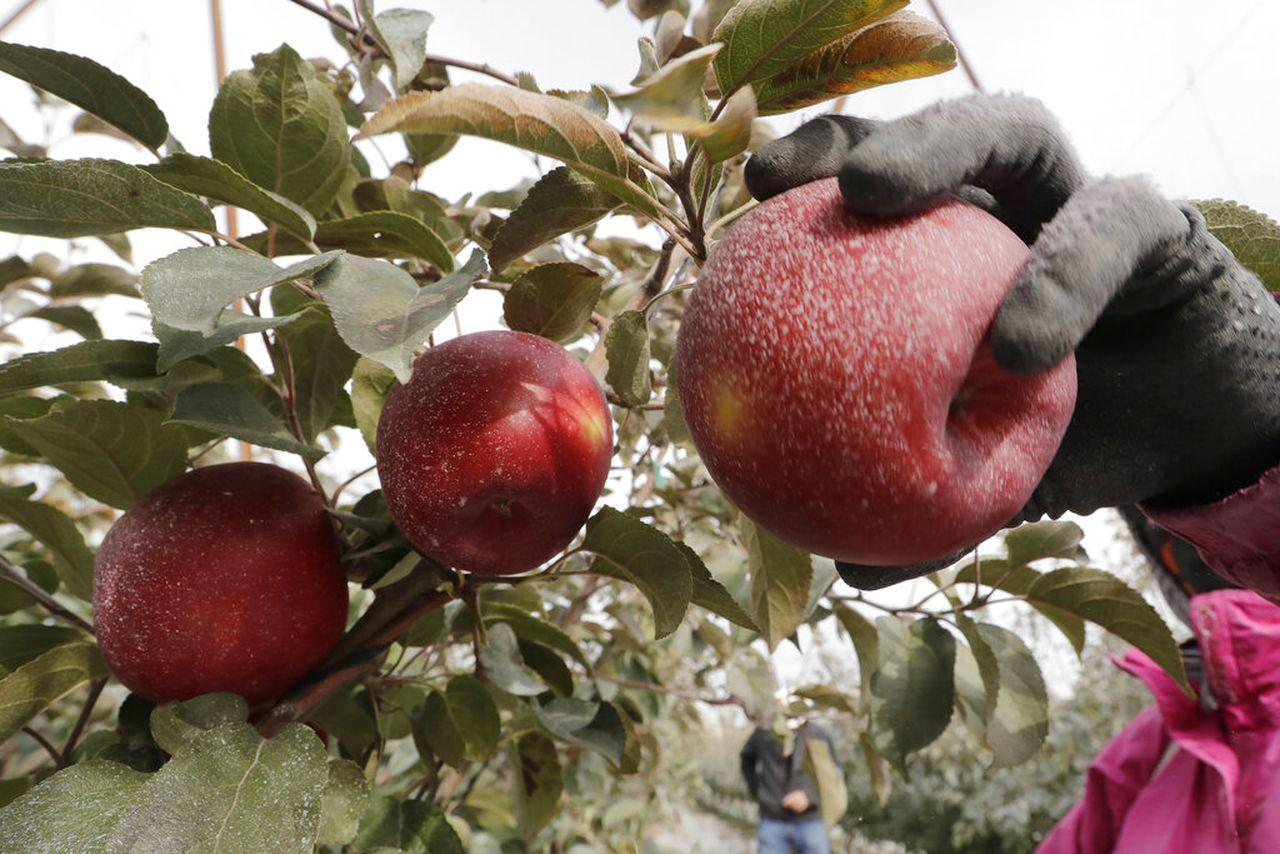apple: (665, 171, 1067, 570), (99, 459, 343, 717), (376, 330, 612, 577)
